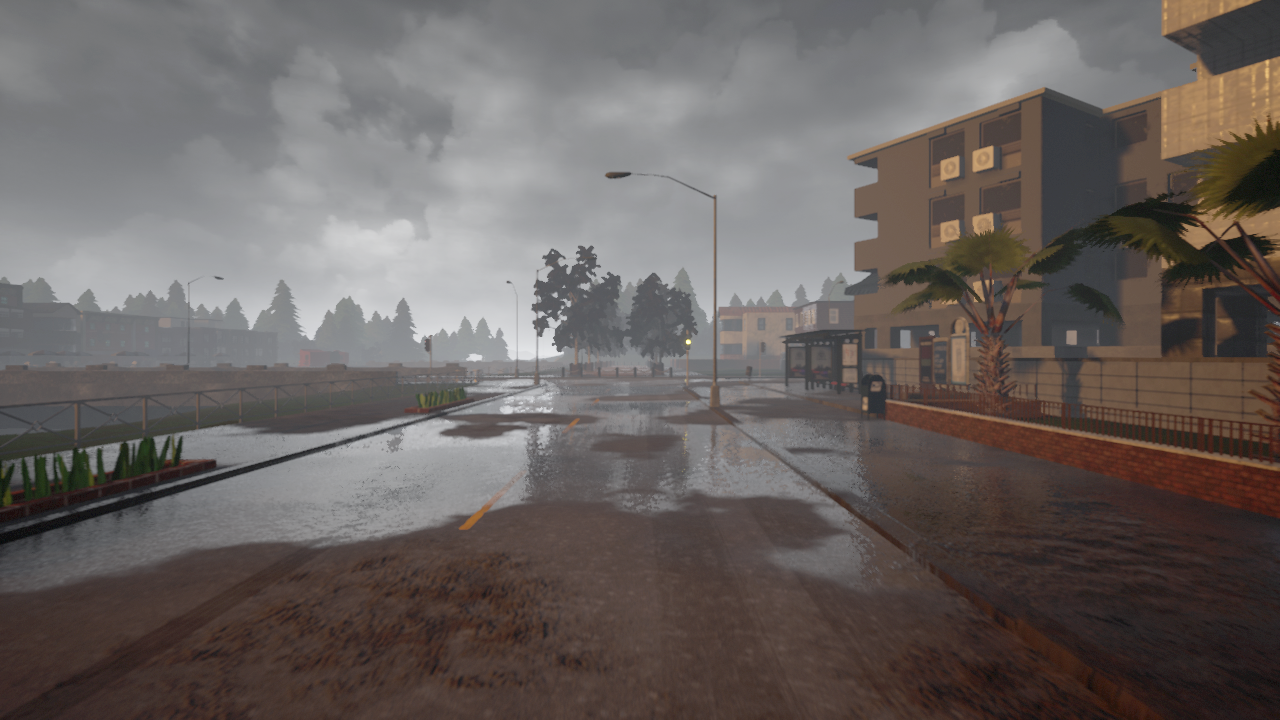yellow: (685, 333, 691, 349)
